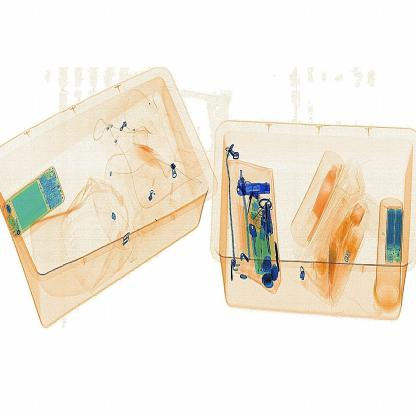knife: (238, 178, 276, 199)
